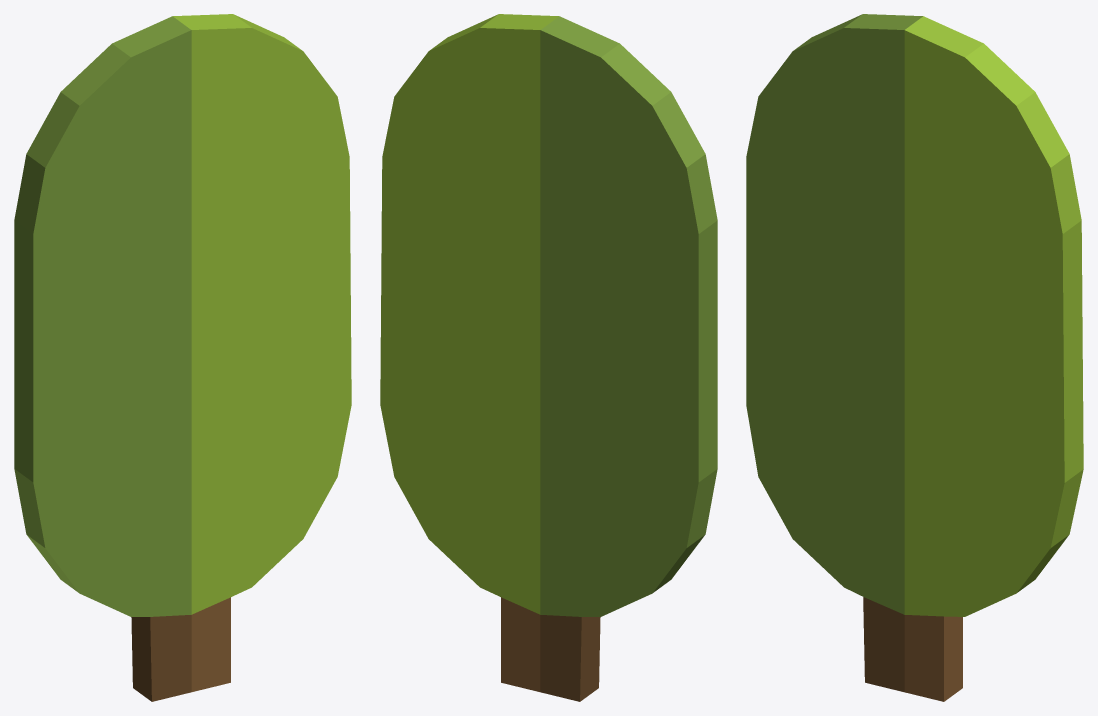
The model's file is ovaltree-small.fbx.
The picture shows the model from 3 angles, left to right: view 1: azimuth 30°, elevation 25°; view 2: azimuth 150°, elevation 25°; view 3: azimuth 330°, elevation 25°; orthographic projection.
Parts seen in each view (by area): view 1: Plane; view 2: Plane; view 3: Plane.
Part boxes in pixels (<box>): Plane: <box>14,14,351,701</box>; Plane: <box>380,14,717,701</box>; Plane: <box>746,14,1083,701</box>.
Bounding box in the file's own units: 24149 × 48000 × 2500.
